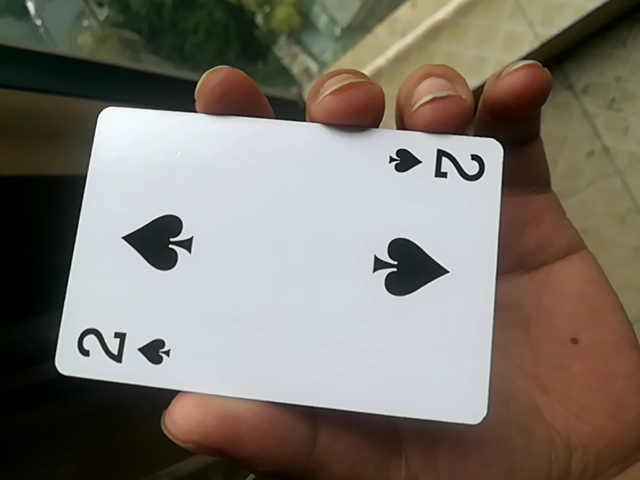ht 2: (54, 101, 505, 427)
